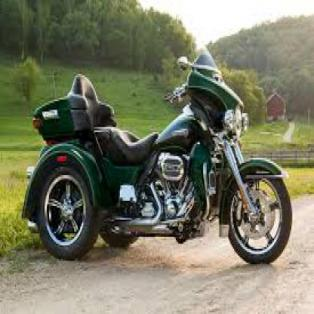Motocicleta: (21, 51, 294, 267)
